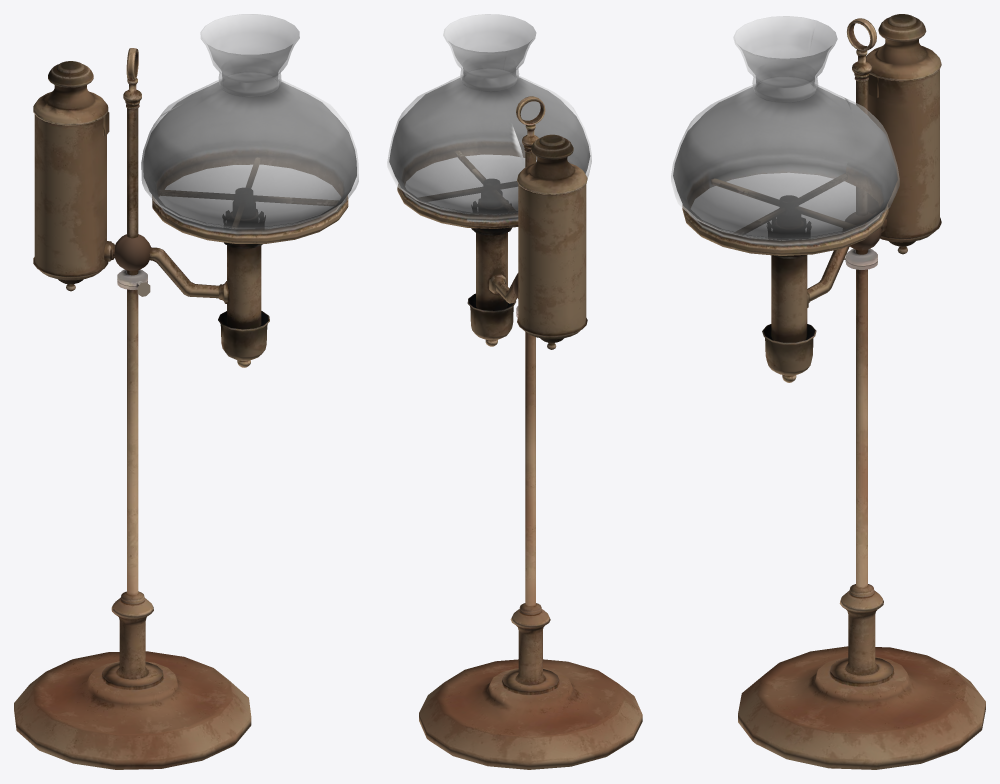
File: oil_lamp.glb
3 views of the same model, side by side, from view 1: azimuth 30°, elevation 25°; view 2: azimuth 150°, elevation 25°; view 3: azimuth 270°, elevation 25° (orthographic). The views are drawn at different scales.
Visible parts, largest first — view 1: Object_2; view 2: Object_2; view 3: Object_2.
Boxes of the visible parts, box(x1,y1,x2,y2) form: Object_2: box(14, 14, 358, 769); Object_2: box(387, 14, 642, 769); Object_2: box(671, 14, 985, 769).
Bounding box in the file's own units: 22.8 × 54.24 × 21.41.
Materials: 1 (1 with a texture image).
